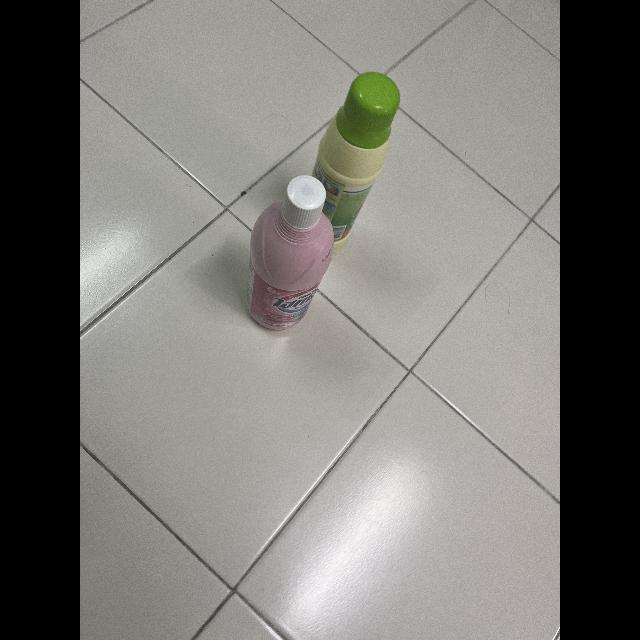chemical_plastic_bottle: (301, 68, 401, 252), (246, 172, 334, 334)
